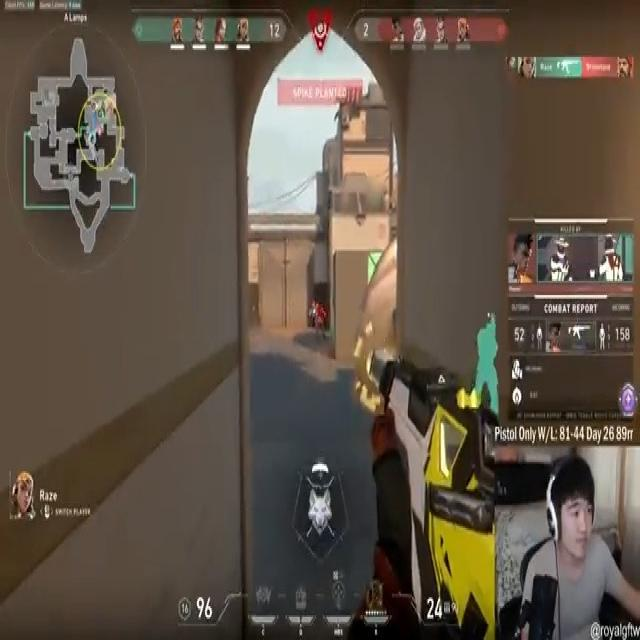ally behind wall: (473, 317, 503, 424)
enemy: (312, 300, 327, 346)
